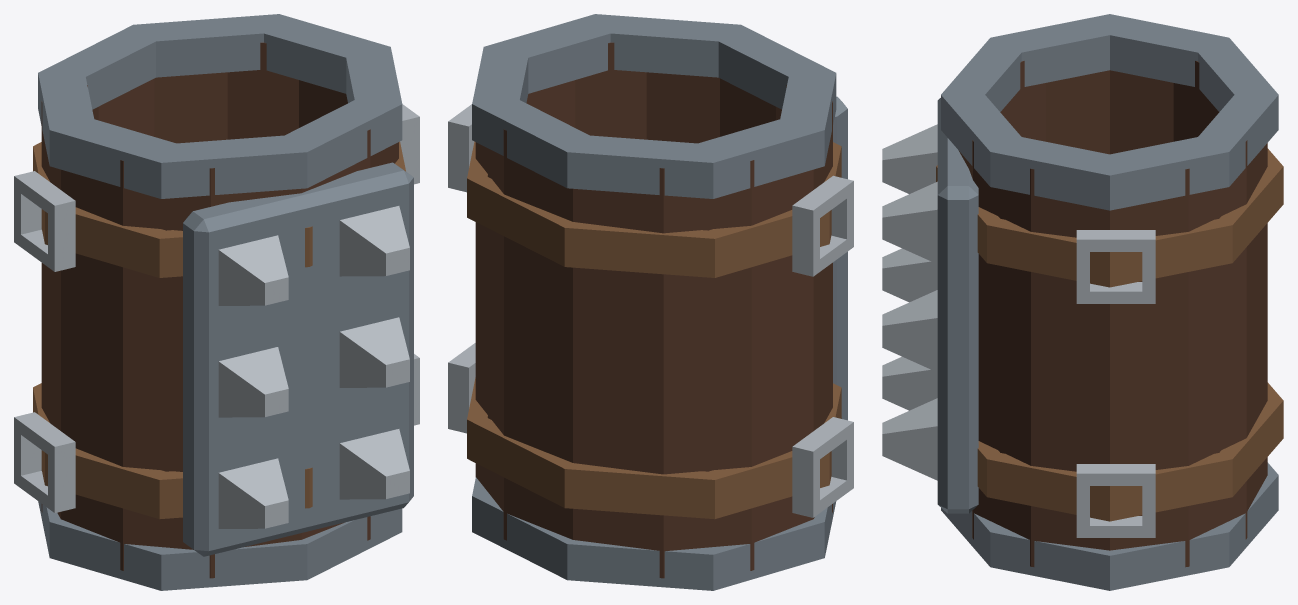
Rendered from spiked_arm_bracers.fbx.
The picture shows the model from 3 angles, left to right: view 1: azimuth 30°, elevation 25°; view 2: azimuth 150°, elevation 25°; view 3: azimuth 270°, elevation 25°; orthographic projection. The views are drawn at different scales.
Visible parts, largest first — view 1: SpikedArmBracer_Left, SpikedArmBracer_Right; view 2: SpikedArmBracer_Left, SpikedArmBracer_Right; view 3: SpikedArmBracer_Left, SpikedArmBracer_Right.
Boxes of the visible parts, x1,y1,x2,y2 form: SpikedArmBracer_Left: (14, 14, 409, 590); SpikedArmBracer_Right: (220, 104, 419, 550); SpikedArmBracer_Left: (467, 14, 853, 590); SpikedArmBracer_Right: (448, 104, 475, 433); SpikedArmBracer_Left: (882, 14, 1283, 590); SpikedArmBracer_Right: (937, 110, 1155, 537).
Bounding box in the file's own units: 143 × 160 × 140.
